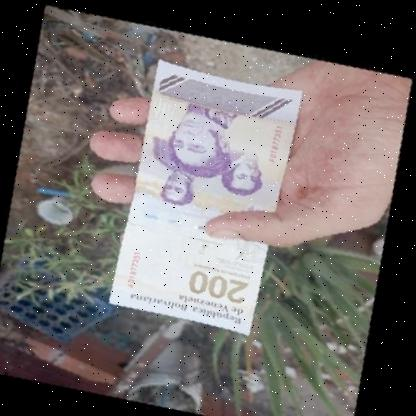two_hundred-front-vef: (87, 36, 325, 349)
